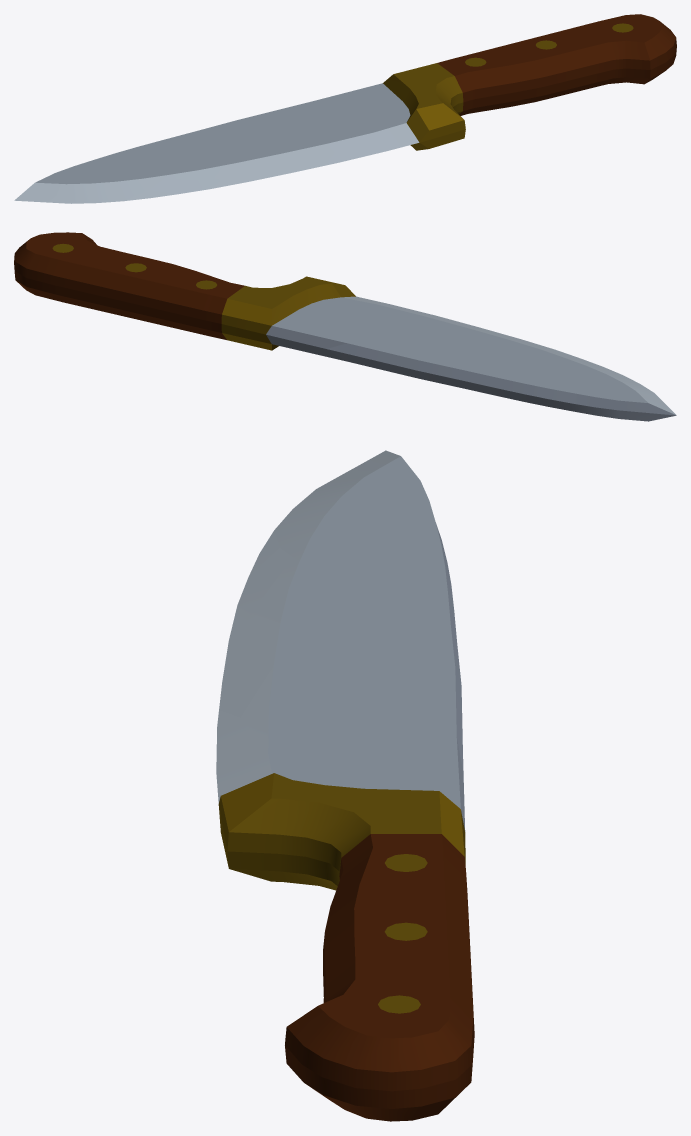
Rendered from KnifeFractured.fbx.
3 renders of one model, top to bottom at view 1: azimuth 30°, elevation 25°; view 2: azimuth 150°, elevation 25°; view 3: azimuth 270°, elevation 25°, orthographic. The views are drawn at different scales.
Parts seen in each view (by area): view 1: Knife_01_Frac_01, Knife_01_Frac_17, Knife_01_Frac_07, Knife_01_Frac_03, Knife_01_Frac_10, Knife_01_Frac_14, Knife_01_Frac_15, Knife_01_Frac_08, Knife_01_Frac_13, Knife_01_Frac_04, Knife_01_Frac_11, Knife_01_Frac_06 (+4 smaller); view 2: Knife_01_Frac_01, Knife_01_Frac_17, Knife_01_Frac_02, Knife_01_Frac_08, Knife_01_Frac_03, Knife_01_Frac_10, Knife_01_Frac_04, Knife_01_Frac_11, Knife_01_Frac_05, Knife_01_Frac_09, Knife_01_Frac_14; view 3: Knife_01_Frac_01, Knife_01_Frac_17, Knife_01_Frac_03, Knife_01_Frac_10, Knife_01_Frac_08, Knife_01_Frac_04, Knife_01_Frac_02, Knife_01_Frac_11, Knife_01_Frac_14, Knife_01_Frac_07, Knife_01_Frac_05, Knife_01_Frac_06 (+3 smaller).
Part boxes in pixels (x1,y1,x2,y2): Knife_01_Frac_01: [245, 14, 676, 165]; Knife_01_Frac_17: [14, 140, 207, 203]; Knife_01_Frac_07: [266, 153, 333, 172]; Knife_01_Frac_03: [208, 116, 314, 140]; Knife_01_Frac_10: [136, 146, 258, 171]; Knife_01_Frac_14: [162, 163, 236, 180]; Knife_01_Frac_15: [148, 179, 221, 193]; Knife_01_Frac_08: [142, 125, 244, 150]; Knife_01_Frac_13: [211, 165, 292, 188]; Knife_01_Frac_04: [207, 134, 298, 149]; Knife_01_Frac_11: [194, 141, 289, 165]; Knife_01_Frac_06: [282, 138, 347, 153]; Knife_01_Frac_01: [14, 232, 448, 361]; Knife_01_Frac_17: [477, 354, 676, 421]; Knife_01_Frac_02: [327, 343, 476, 388]; Knife_01_Frac_08: [426, 355, 529, 395]; Knife_01_Frac_03: [374, 334, 474, 360]; Knife_01_Frac_10: [462, 339, 575, 371]; Knife_01_Frac_04: [418, 330, 496, 356]; Knife_01_Frac_11: [437, 330, 532, 353]; Knife_01_Frac_05: [416, 318, 505, 338]; Knife_01_Frac_09: [451, 349, 513, 365]; Knife_01_Frac_14: [508, 339, 574, 360]; Knife_01_Frac_01: [216, 666, 474, 1121]; Knife_01_Frac_17: [274, 450, 455, 626]; Knife_01_Frac_03: [362, 625, 427, 726]; Knife_01_Frac_10: [314, 540, 363, 656]; Knife_01_Frac_08: [402, 566, 455, 666]; Knife_01_Frac_04: [316, 613, 378, 696]; Knife_01_Frac_02: [427, 625, 463, 772]; Knife_01_Frac_11: [280, 590, 326, 683]; Knife_01_Frac_14: [252, 557, 313, 623]; Knife_01_Frac_07: [219, 652, 273, 717]; Knife_01_Frac_05: [274, 624, 315, 710]; Knife_01_Frac_06: [241, 665, 286, 728].
Size of the model in its own units: 70.17 by 4.25 by 11.96.
